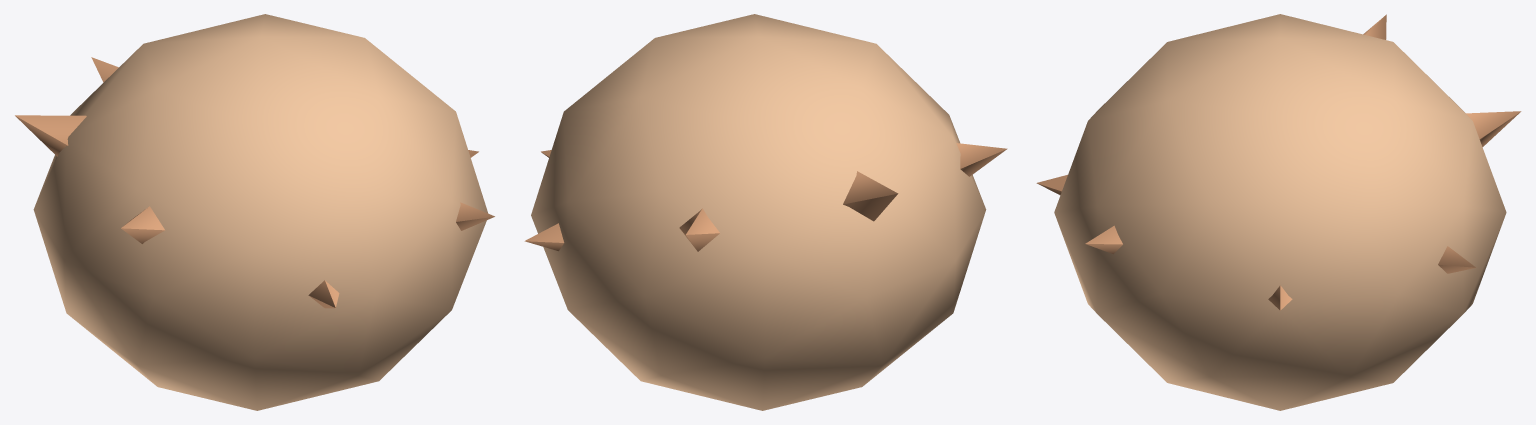
Rendered from panellet.glb.
3 views of the same model, side by side, from view 1: azimuth 30°, elevation 25°; view 2: azimuth 150°, elevation 25°; view 3: azimuth 270°, elevation 25° (orthographic).
Parts seen in each view (by area): view 1: panellet; view 2: panellet; view 3: panellet.
Part boxes in pixels (x1,y1,x2,y2): panellet: [15, 14, 494, 410]; panellet: [524, 14, 1007, 410]; panellet: [1036, 14, 1521, 410].
Bounding box in the file's own units: 0.6817 × 0.55 × 0.6946.
Materials: 1 (1 with a texture image).
